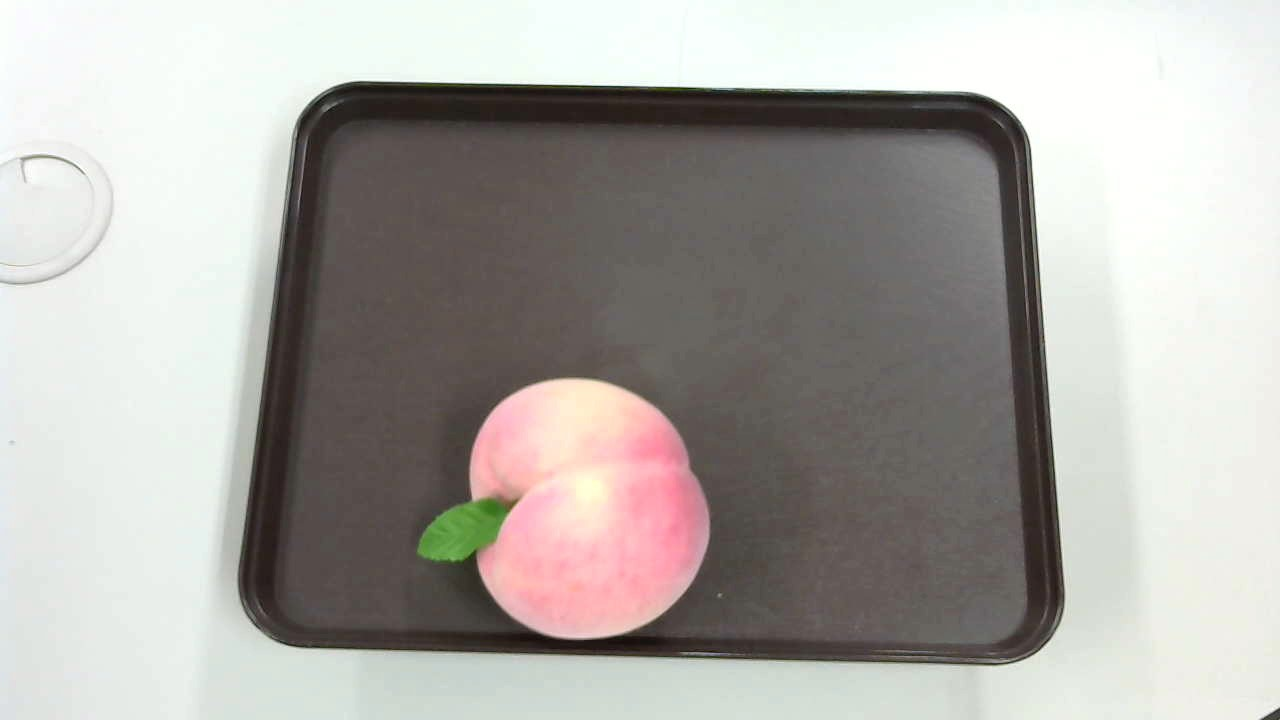peach: (417, 378, 713, 644)
